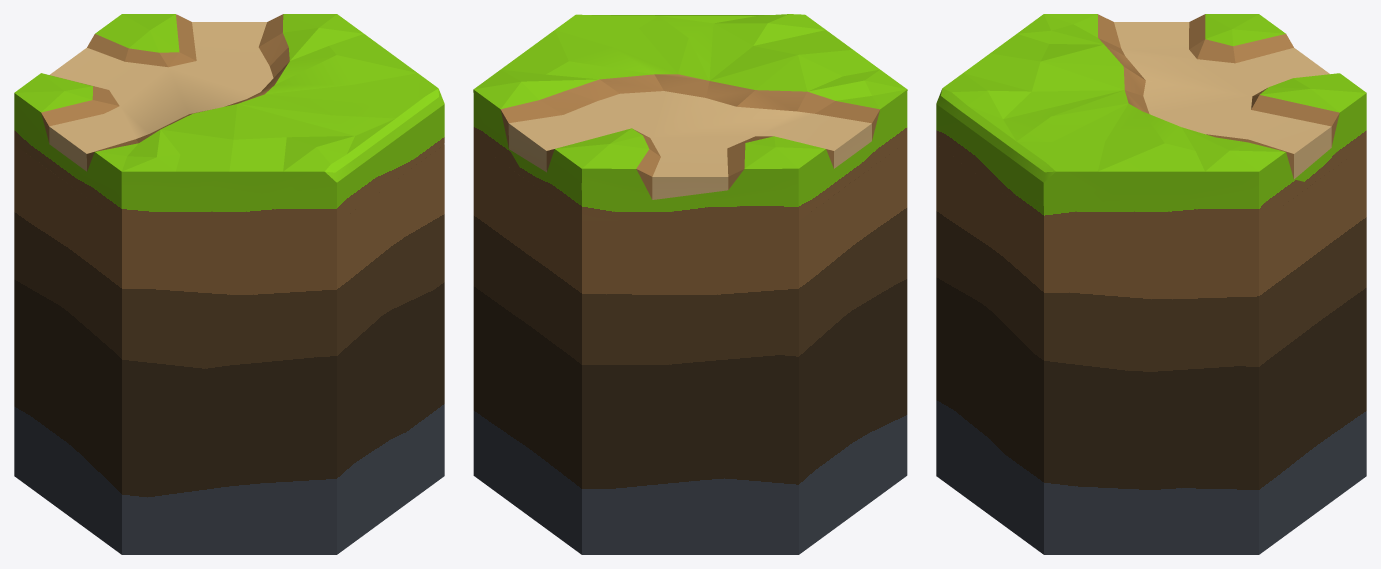
File: HexTilePath_3Way_4.glb
3 renders of one model, left to right at view 1: azimuth 30°, elevation 25°; view 2: azimuth 150°, elevation 25°; view 3: azimuth 270°, elevation 25°, orthographic.
Visible parts, largest first — view 1: HexTilePath_3Way_4; view 2: HexTilePath_3Way_4; view 3: HexTilePath_3Way_4.
Part boxes in pixels (x1=…): HexTilePath_3Way_4: x1=14, y1=14, x2=444, y2=554; HexTilePath_3Way_4: x1=473, y1=14, x2=907, y2=554; HexTilePath_3Way_4: x1=936, y1=14, x2=1366, y2=554.
Bounding box in the file's own units: 1.73 × 2 × 2.
Materials: 1 (1 with a texture image).
